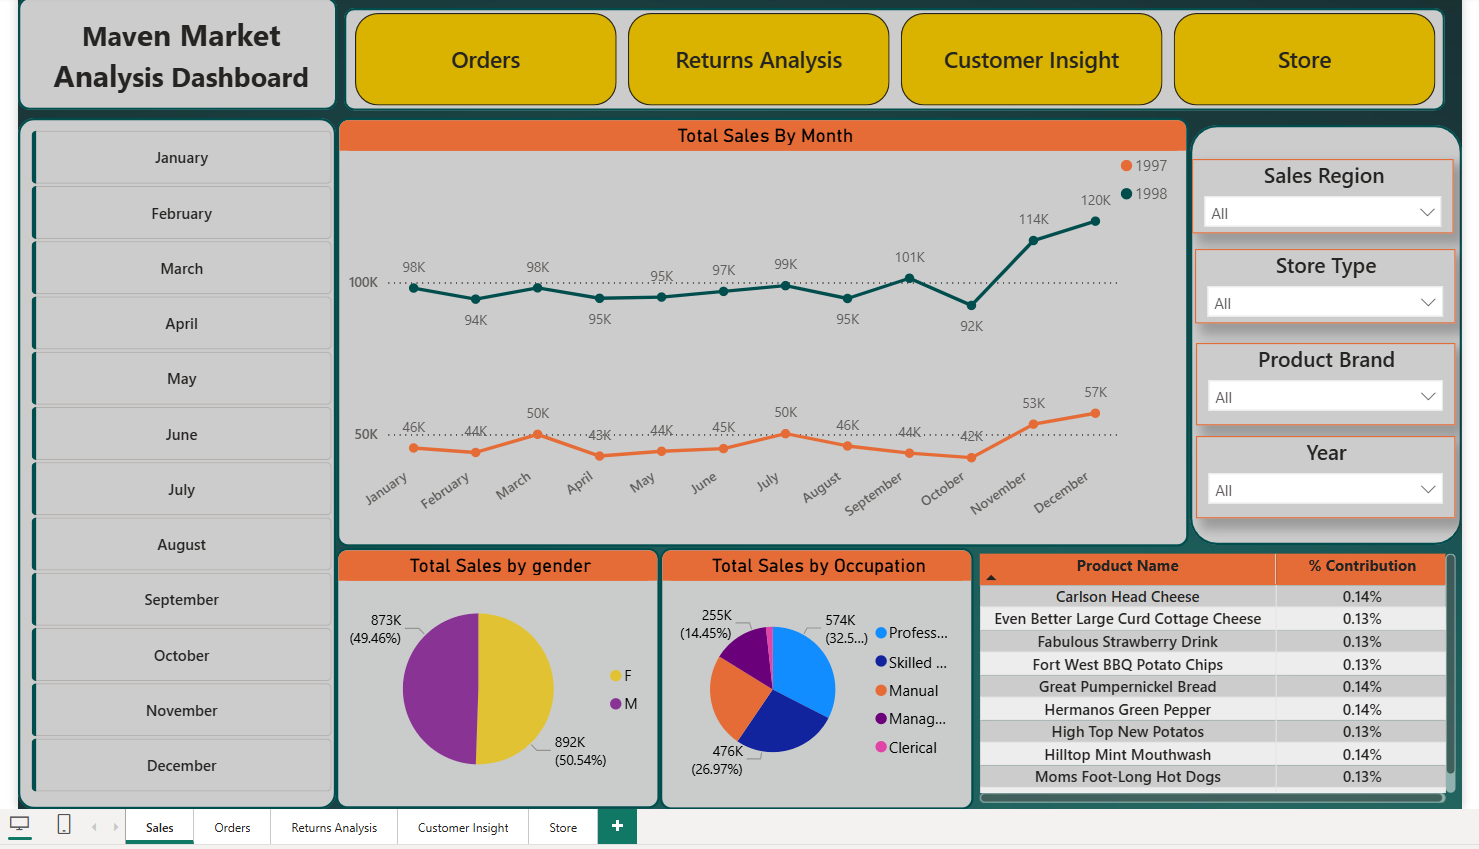

The page's visual inventory and layout, read from the dashboard file:
{"tool":"powerbi","page":{"name":"Sales","canvas":[1280,720],"ordinal":0},"visuals":[{"type":"shape","box":[0,107,282.1,612.8],"z":0},{"type":"advancedSlicerVisual","fields":{"Values":["Date.date.Variation.Date Hierarchy.Month"]},"box":[6.8,113.8,276.2,606],"z":1000},{"type":"shape","box":[0,0,283,100.2],"z":2000},{"type":"textbox","box":[6.8,9.7,275.3,81.7],"z":3000},{"type":"shape","box":[1038.8,113.8,241.2,372.5],"z":4000},{"type":"lineChart","title":"Total Sales By Month","fields":{"Series":["Date.date.Variation.Date Hierarchy.Year"],"Category":["Date.date.Variation.Date Hierarchy.Month"],"Y":["All Measures.Total_Sales"]},"box":[282.9,107.3,755.5,379.5],"z":5000},{"type":"slicer","title":"Sales Region","fields":{"Values":["Regions.sales_region"]},"box":[1040.7,144,232.5,66.1],"z":6000},{"type":"slicer","title":"Store Type","fields":{"Values":["stores.store_type"]},"box":[1043.6,223.7,230.5,66.1],"z":7000},{"type":"slicer","title":"Product Brand","fields":{"Values":["Transaction Table.product_brand"]},"box":[1044.6,306.4,229.5,72.9],"z":8000},{"type":"shape","box":[289.3,9.6,976.3,91],"z":9000},{"type":"tableEx","fields":{"Values":["Transaction Table.product_name","All Measures.Percent contribution to overall"]},"box":[846.9,488.6,433.1,230.9],"z":10000},{"type":"pieChart","title":"Total Sales by gender","fields":{"Category":["Customer.gender"],"Y":["All Measures.Total_Sales"]},"box":[281.7,488.6,287.4,230.9],"z":11000},{"type":"slicer","title":"Year","fields":{"Values":["Date.date.Variation.Date Hierarchy.Year"]},"box":[1044.6,389.1,229.5,72.9],"z":12000},{"type":"pieChart","title":"Total Sales by Occupation","fields":{"Y":["All Measures.Total_Sales"],"Category":["Customer.occupation"]},"box":[569.1,488.6,277.8,231.9],"z":13000},{"type":"pageNavigator","box":[298.9,14.4,958.1,82.4],"z":13001}]}

Visuals, with their boxes on the page's 1280x720 design canvas (x1, y1, x2, y2). These are canvas units, not pixel positions in the 1479x849 screenshot, which may show the page scaled, cropped or inside an application window:
shape: 0 107 282 720
advancedSlicerVisual - Date.date.Variation.Date Hierarchy.Month: 7 114 283 720
shape: 0 0 283 100
textbox: 7 10 282 91
shape: 1039 114 1280 486
"Total Sales By Month" lineChart: 283 107 1038 487
"Sales Region" slicer: 1041 144 1273 210
"Store Type" slicer: 1044 224 1274 290
"Product Brand" slicer: 1045 306 1274 379
shape: 289 10 1266 101
tableEx - Transaction Table.product_name x All Measures.Percent contribution to overall: 847 489 1280 720
"Total Sales by gender" pieChart: 282 489 569 720
"Year" slicer: 1045 389 1274 462
"Total Sales by Occupation" pieChart: 569 489 847 720
pageNavigator: 299 14 1257 97
